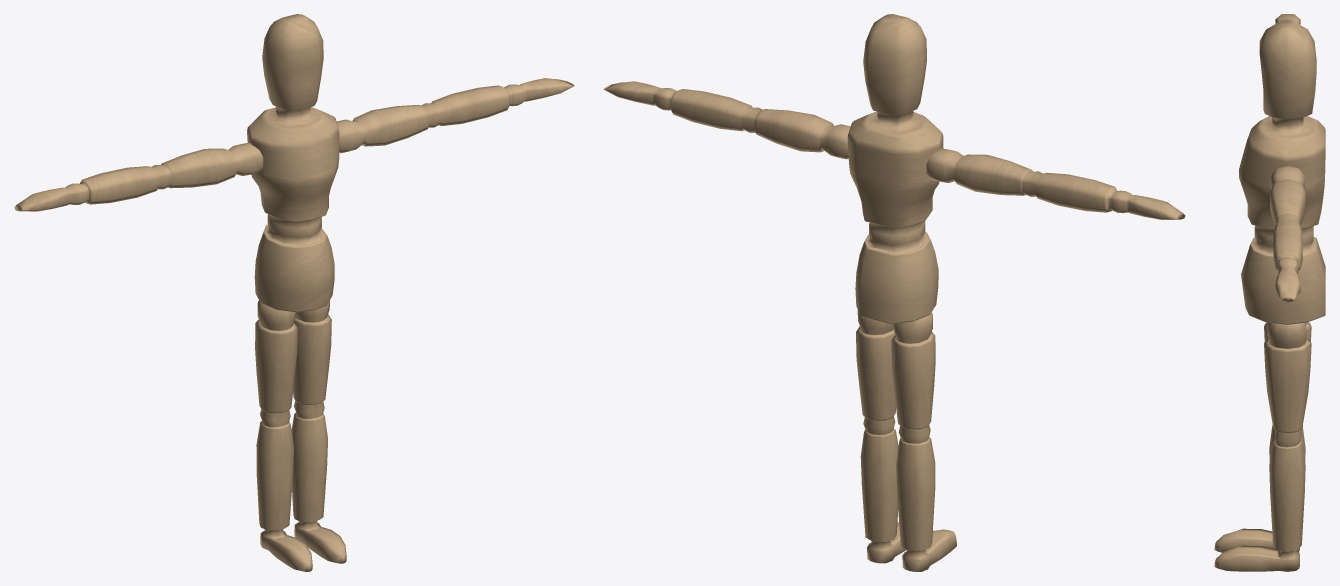
The model's file is FullAvtarPainted.fbx.
3 renders of one model, left to right at view 1: azimuth 30°, elevation 25°; view 2: azimuth 150°, elevation 25°; view 3: azimuth 270°, elevation 25°, orthographic. The views are drawn at different scales.
Parts seen in each view (by area): view 1: Test; view 2: Test; view 3: Test.
Part boxes in pixels (left/top/right/bottom): Test: left=14, top=14, right=574, bottom=571; Test: left=603, top=14, right=1185, bottom=571; Test: left=1214, top=14, right=1325, bottom=571.
Size of the model in its own units: 37.34 by 33.39 by 6.32.
1 material, 1 textured.
